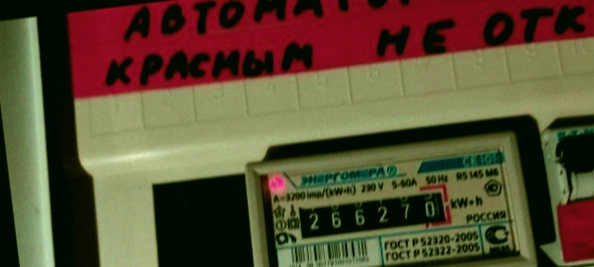0: (422, 197, 436, 218)
2: (306, 209, 322, 231), (376, 203, 390, 224)
6: (329, 208, 343, 230), (353, 205, 367, 226)
7: (398, 200, 413, 220)
screen: (284, 175, 462, 252)
